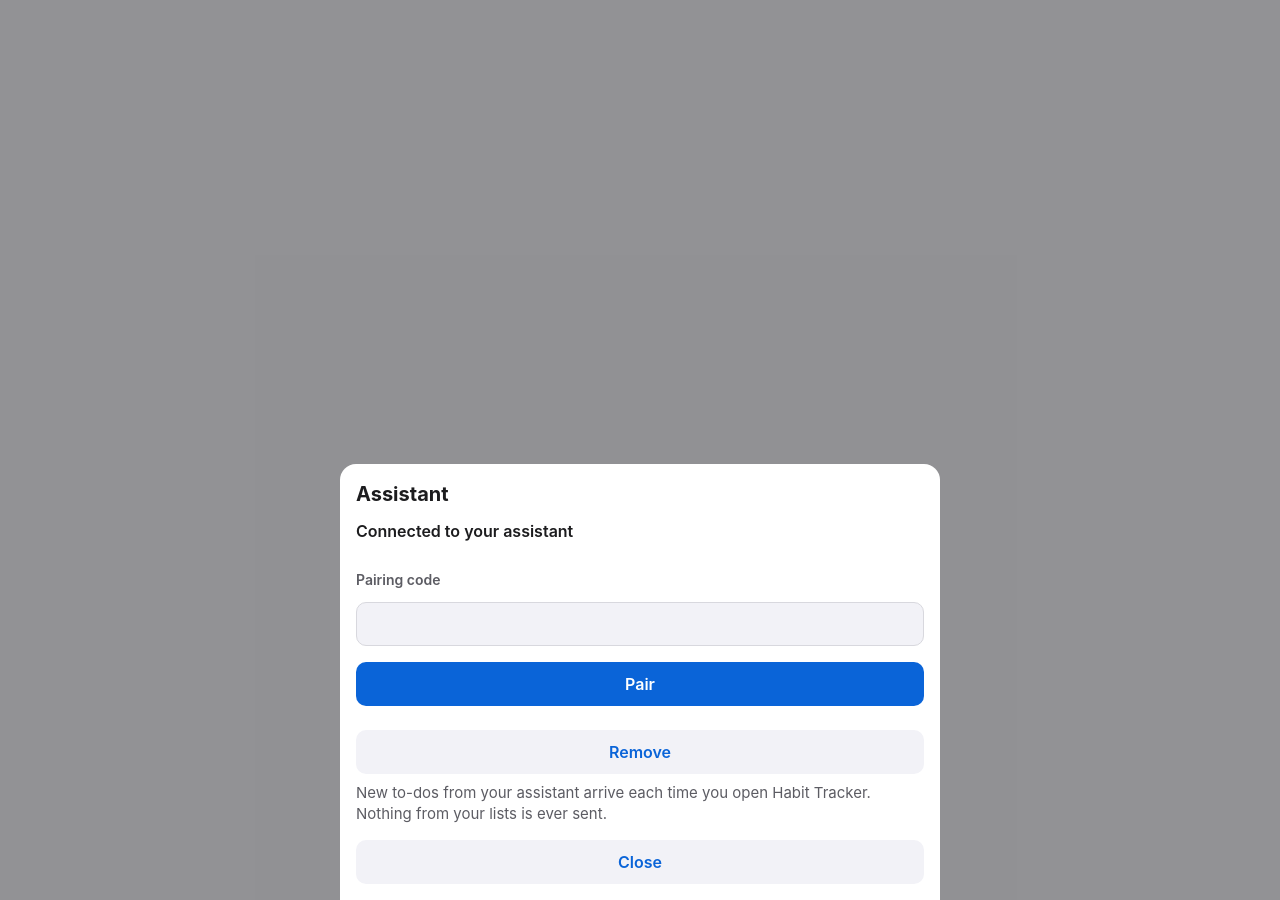
Test: the Assistant sheet › Remove unpairs without any request
Step 1. Click the button "Remove" → point(640, 752), box x1=356 y1=730 x2=924 y2=774
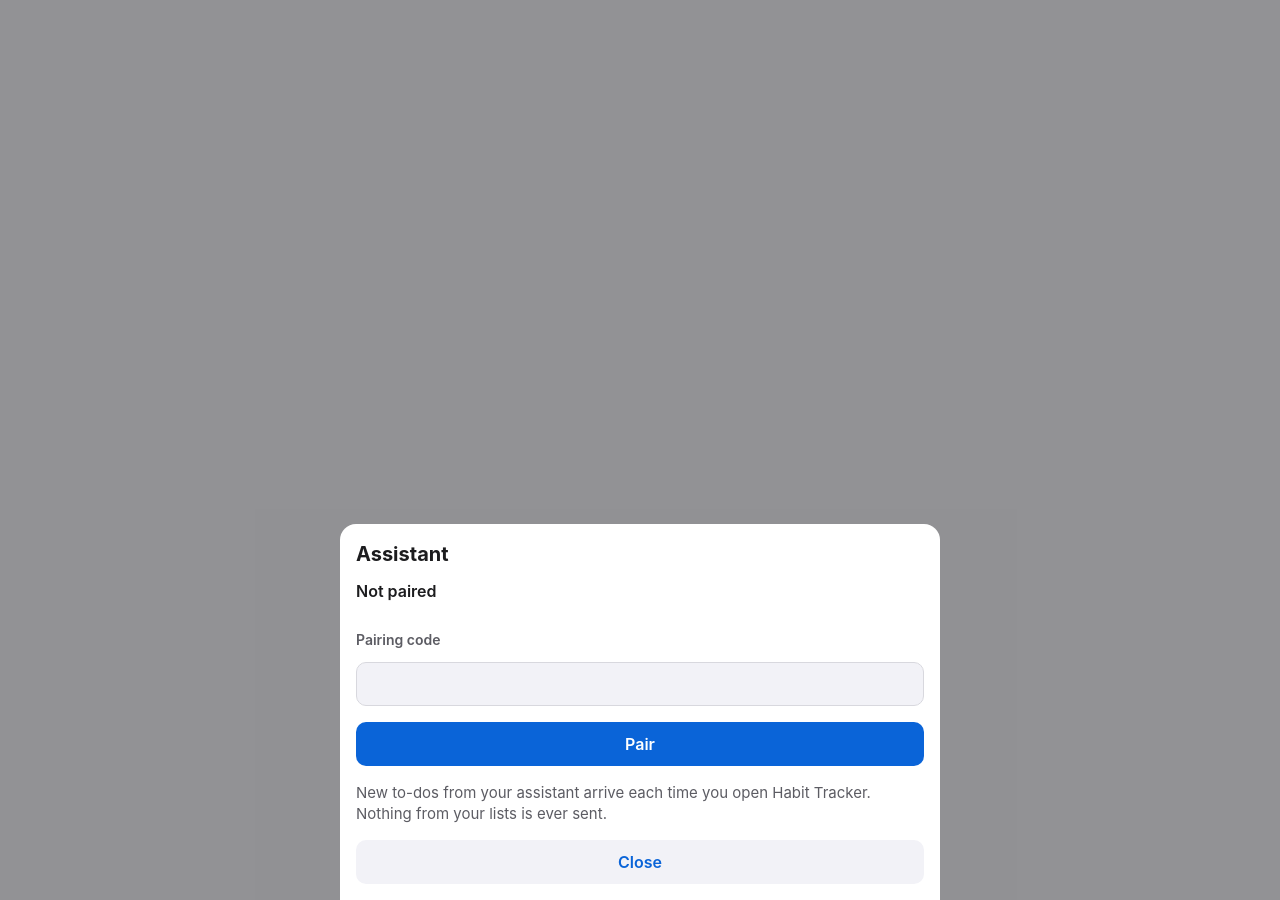
expect the text "Not paired" is shown: met, box x1=356 y1=581 x2=436 y2=601
